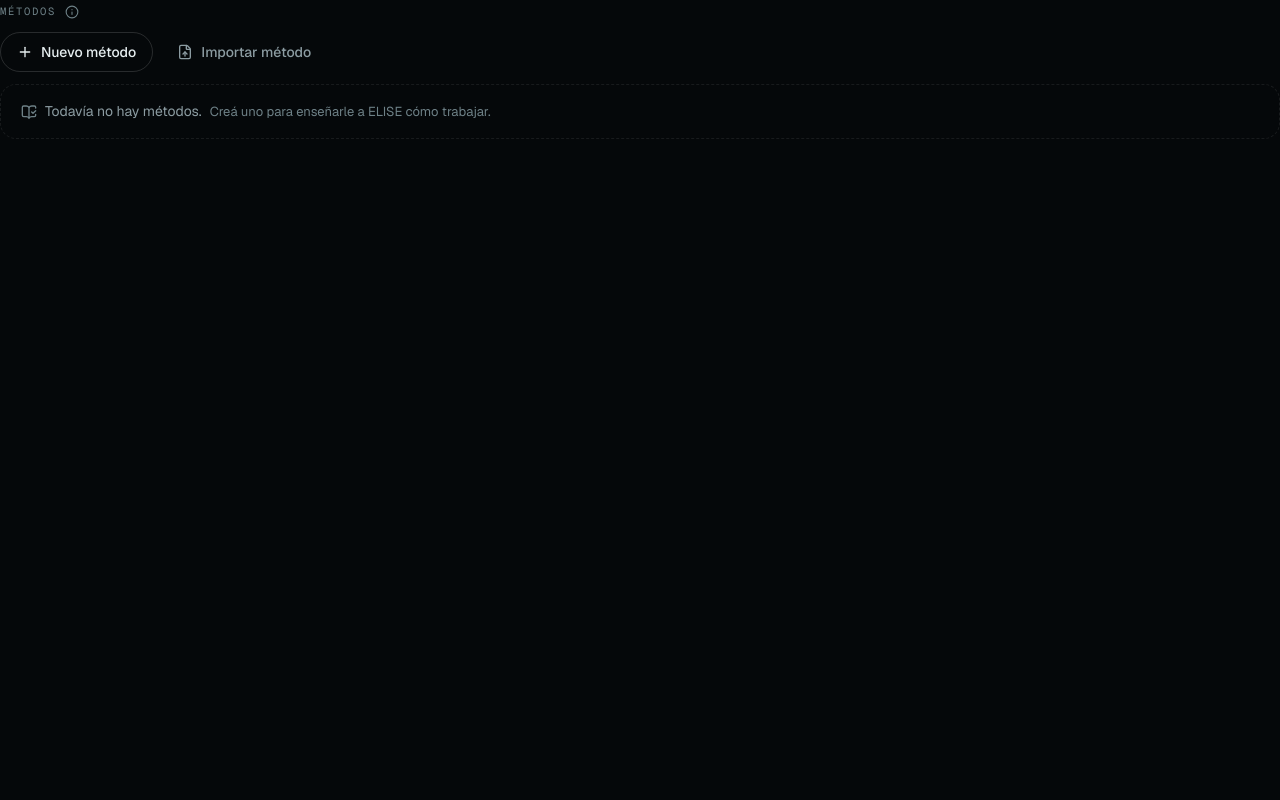
Test: Methods in Knowledge › a new Method is saved where it was opened ({"id":"f","name":"Firbot Marketing","parentId":null,"path":"Firbot Marketing"}.name), with no scope selector
The width and height of the screenshot is (1280, 800).
Click the button "Nuevo método" at (77, 52), box x1=0 y1=32 x2=153 y2=72
(page scrolled)
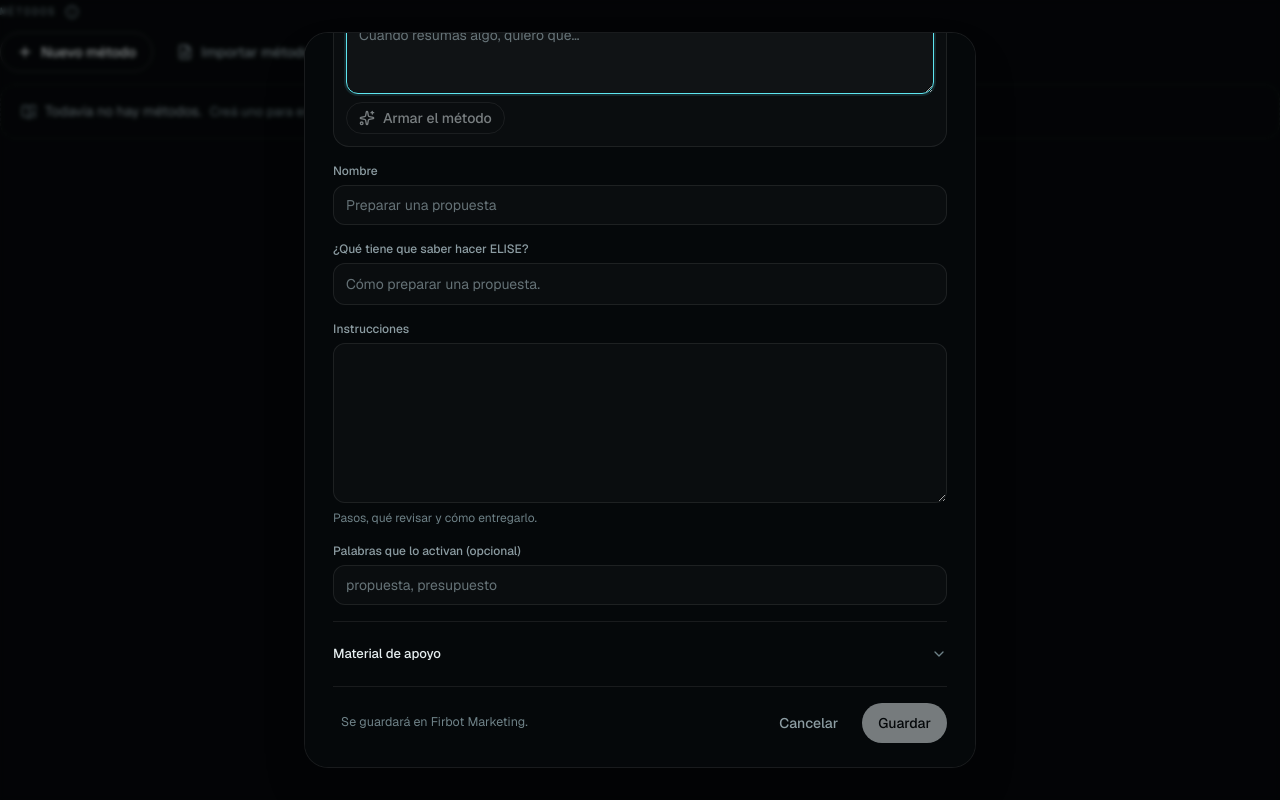
expect the text "Se guardará en Firbot Marketing." is shown: met, box x1=341 y1=713 x2=528 y2=732
